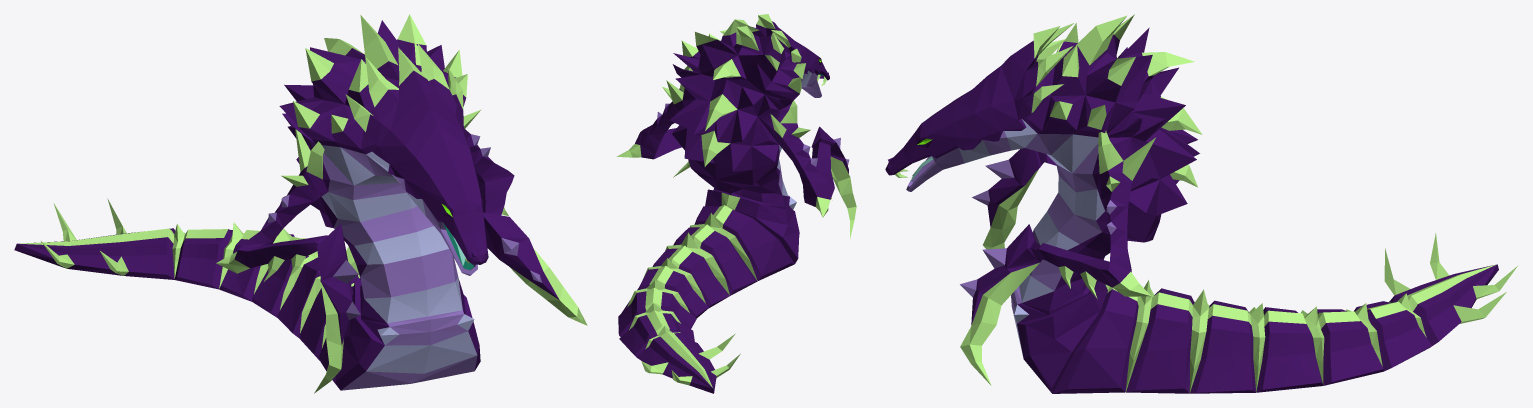
3 renders of one model, left to right at view 1: azimuth 30°, elevation 25°; view 2: azimuth 150°, elevation 25°; view 3: azimuth 270°, elevation 25°, orthographic. The views are drawn at different scales.
Visible parts, largest first — view 1: Alien_Serpent; view 2: Alien_Serpent; view 3: Alien_Serpent.
Part boxes in pixels (box(x1,y1,x2,y2)): Alien_Serpent: box(14, 14, 587, 393); Alien_Serpent: box(616, 14, 856, 393); Alien_Serpent: box(885, 14, 1517, 393).
Size of the model in its own units: 209 by 216 by 361.
Materials: 1 (1 with a texture image).
